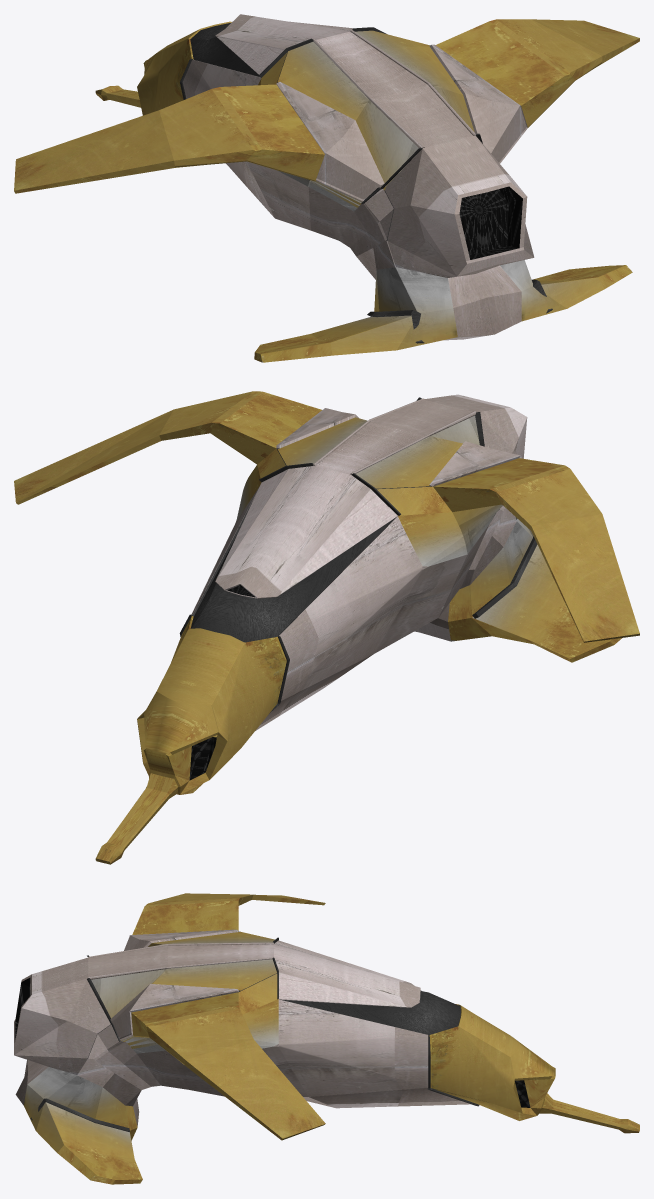
The model's file is StarChaser3.FBX.
3 views of the same model, one above another, from view 1: azimuth 30°, elevation 25°; view 2: azimuth 150°, elevation 25°; view 3: azimuth 270°, elevation 25° (orthographic). The views are drawn at different scales.
Visible parts, largest first — view 1: Object03; view 2: Object03; view 3: Object03.
Boxes of the visible parts, x1,y1,x2,y2 form: Object03: [14, 14, 639, 362]; Object03: [14, 391, 639, 864]; Object03: [14, 893, 639, 1184].
Bounding box in the file's own units: 48.92 × 53.2 × 17.41.
